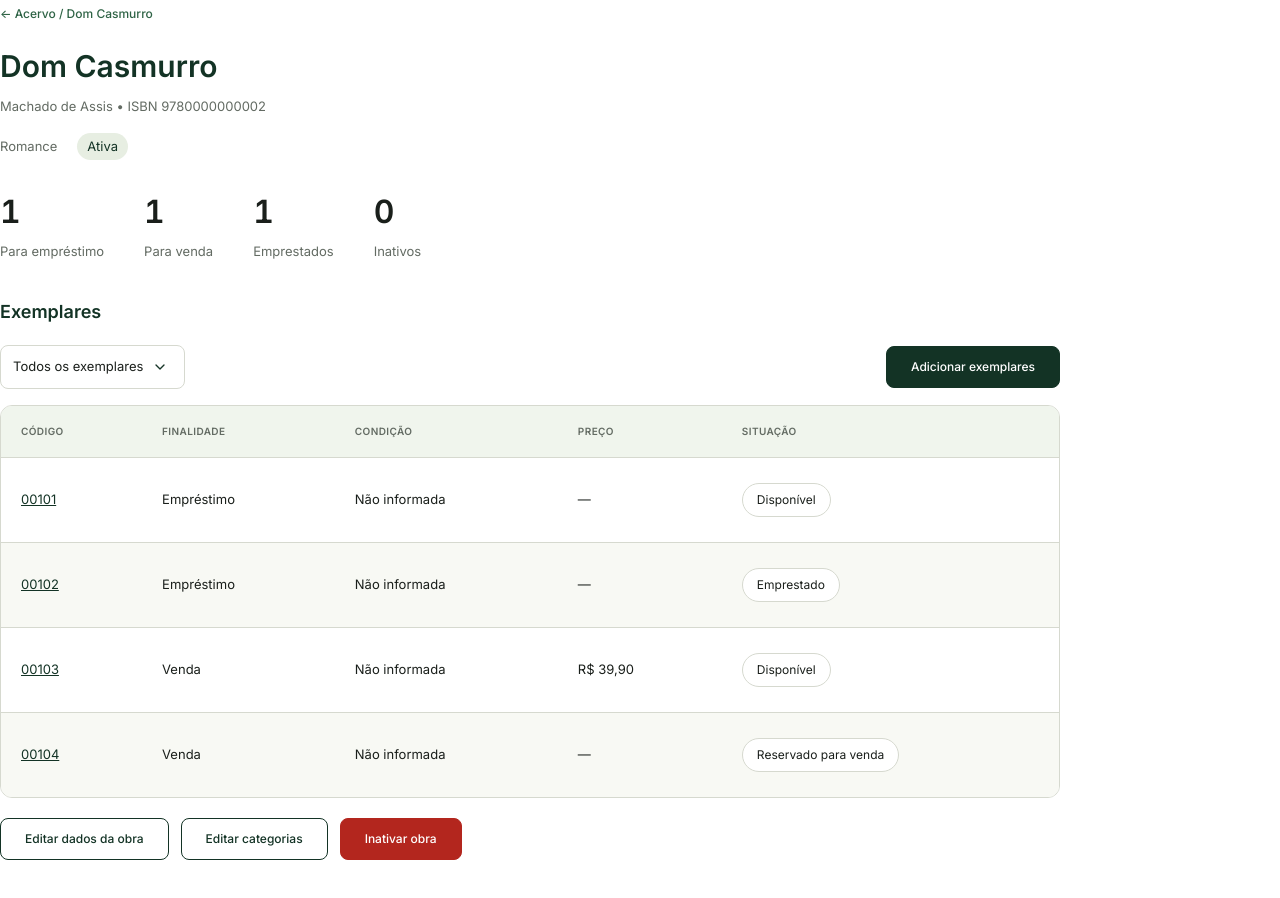
it: Balcão: detalhes da obra › papéis autorizados a editar › cancelar não altera nada
Click the button "Editar categorias" at (254, 838), box [180,818,328,860]
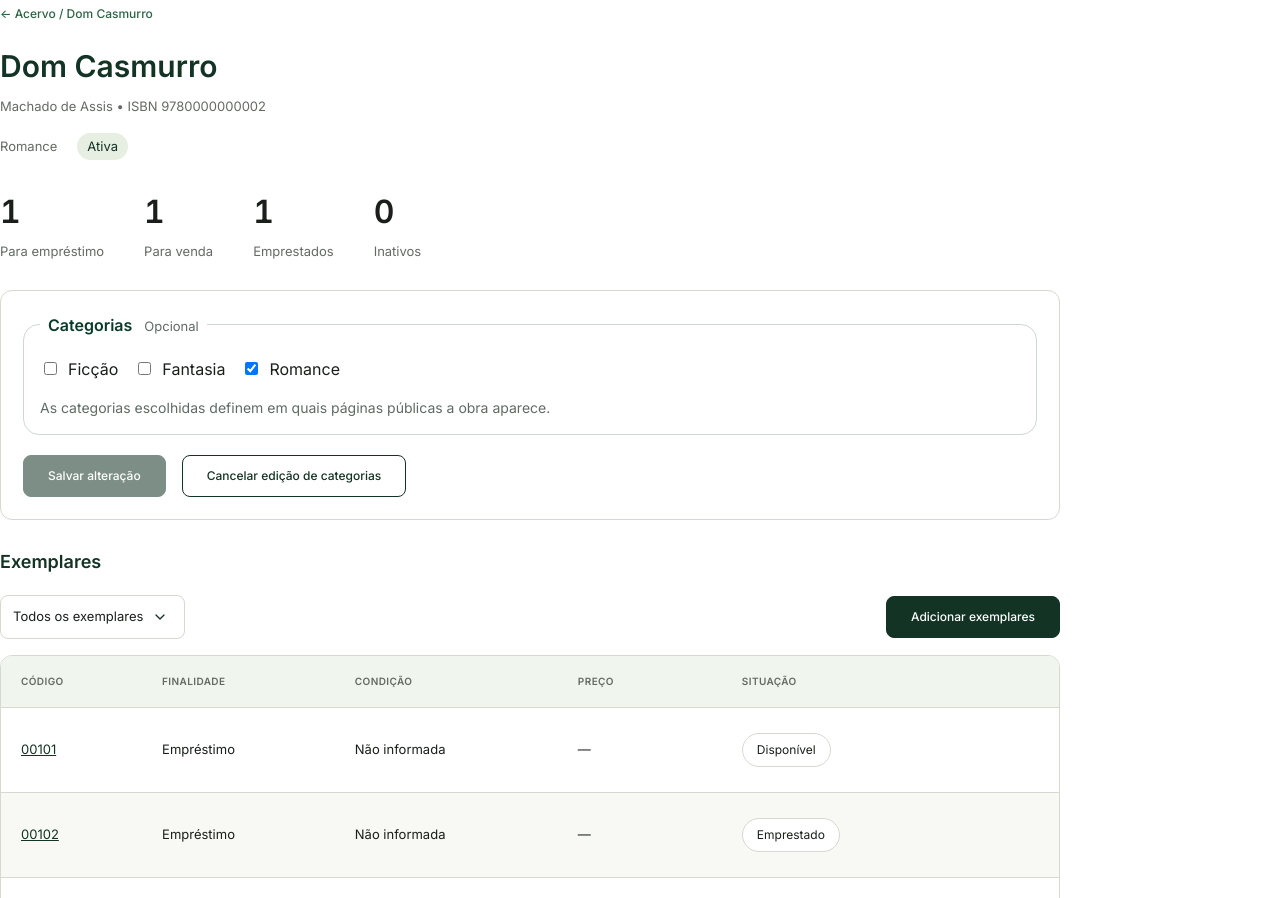
Click the checkbox labelled "Ficção" at (50, 368), box [44,362,57,375]
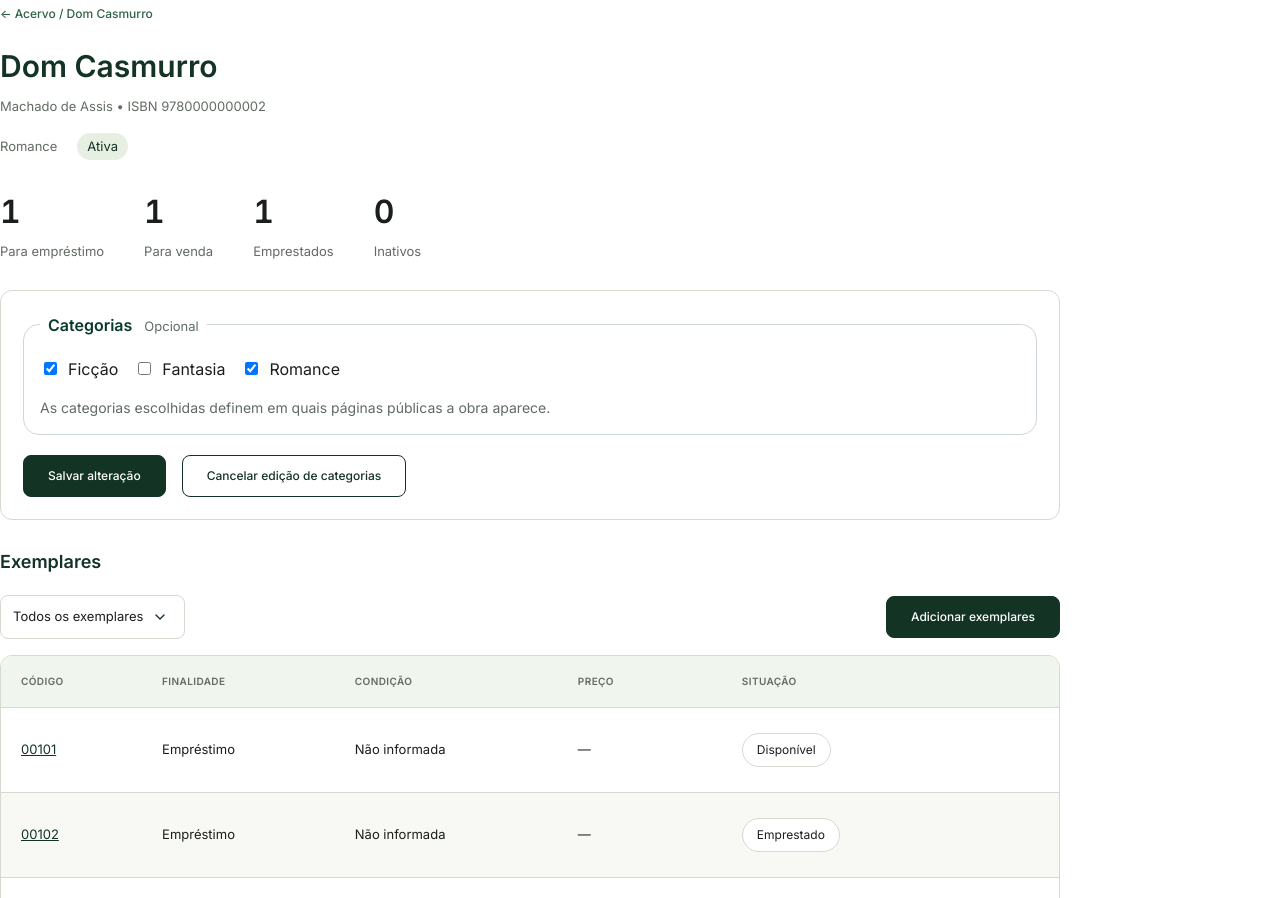
Click the checkbox with id "book-genre-7" at (252, 368), box [245,362,258,375]
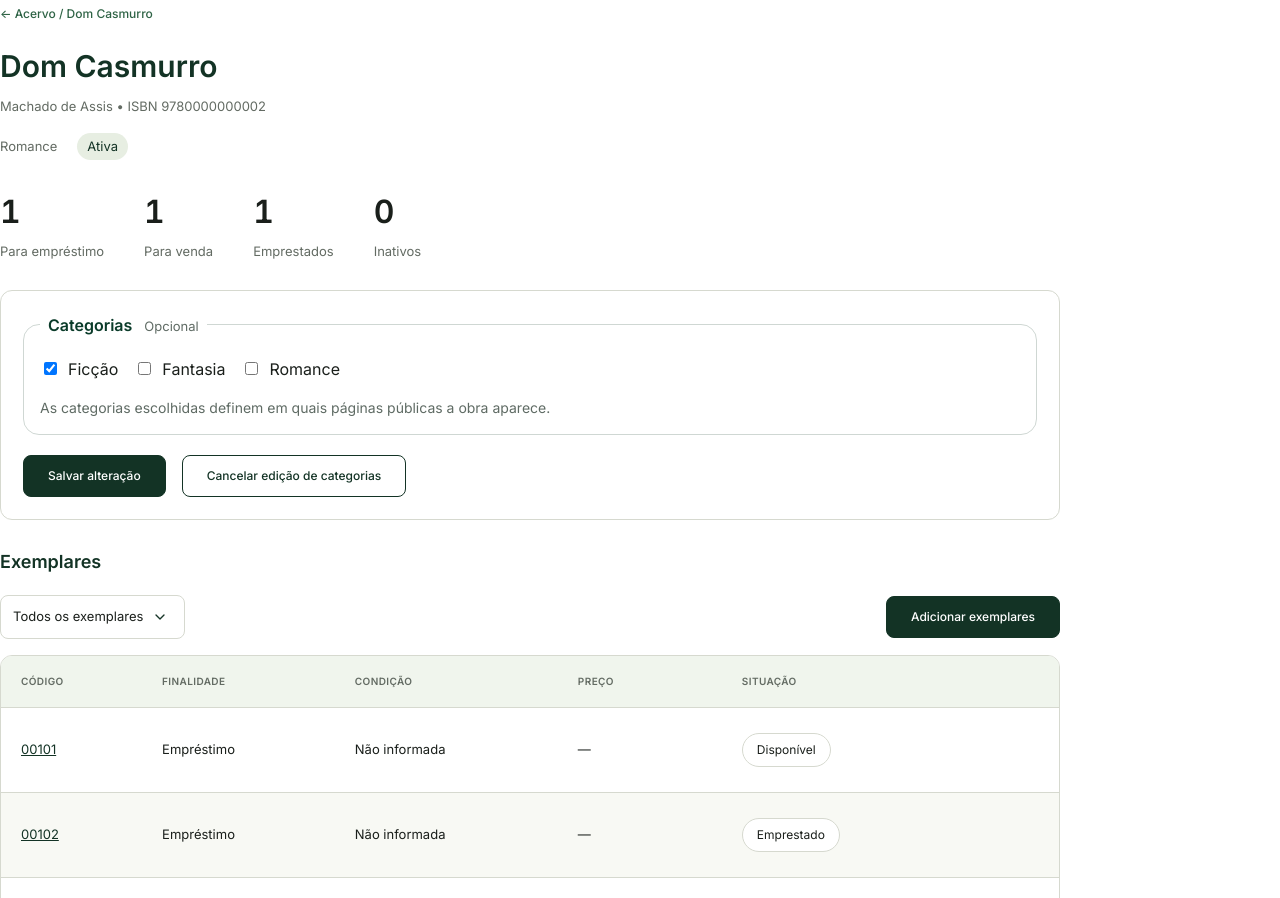
Click the button "Salvar alteração" at (94, 476), box [23,454,166,496]
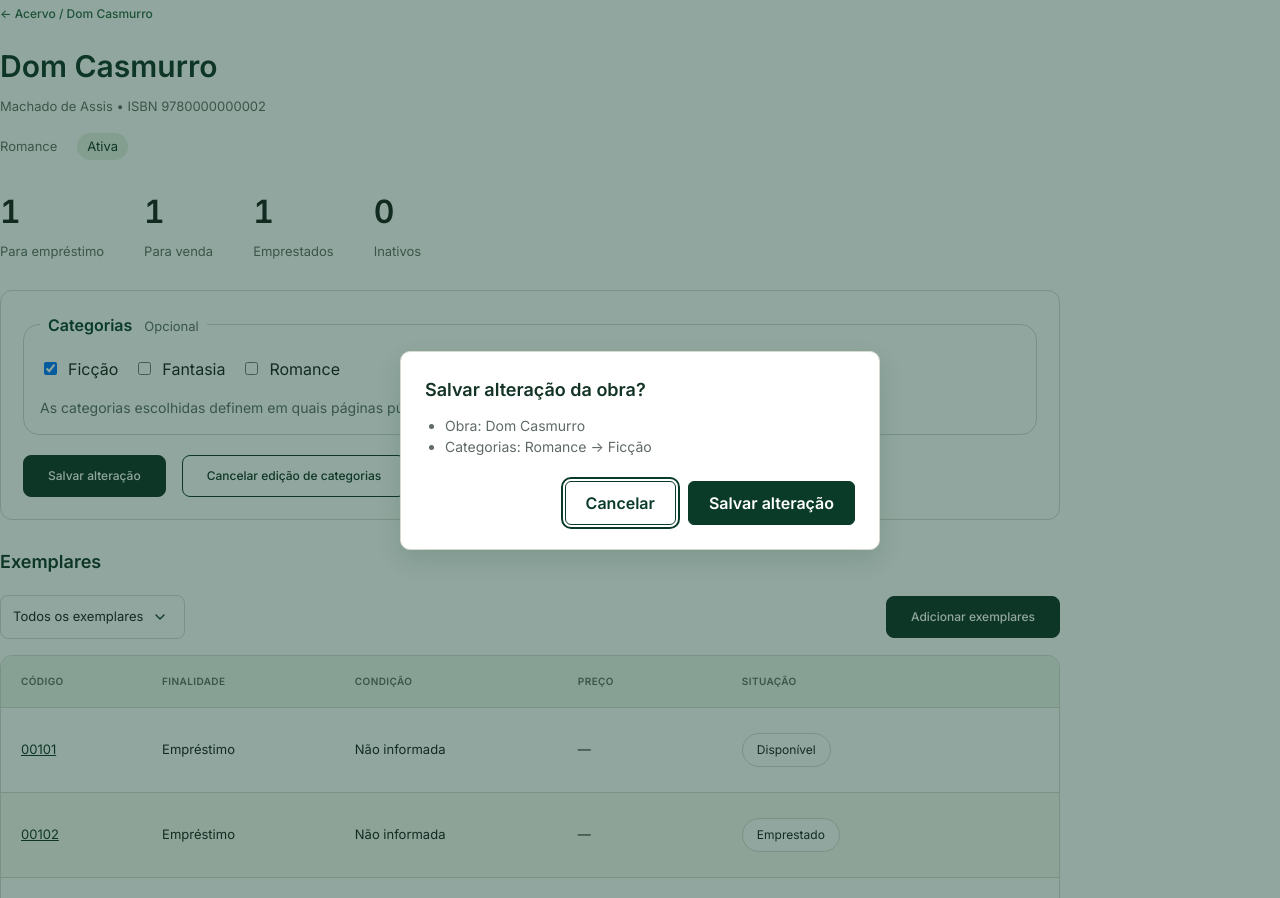
Click the button "Cancelar" at (620, 502), box [565,480,676,524]
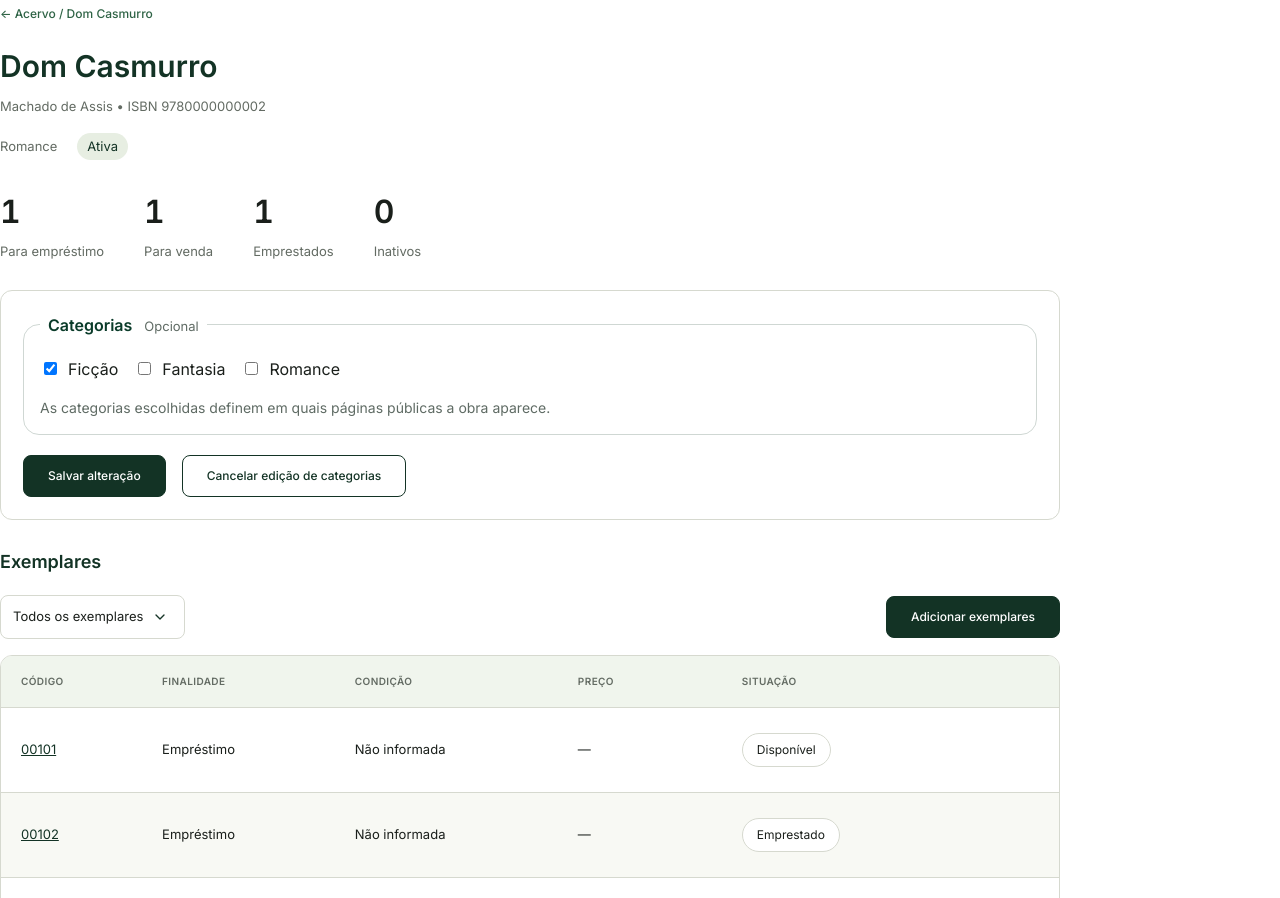
Expected: the dialog is gone
